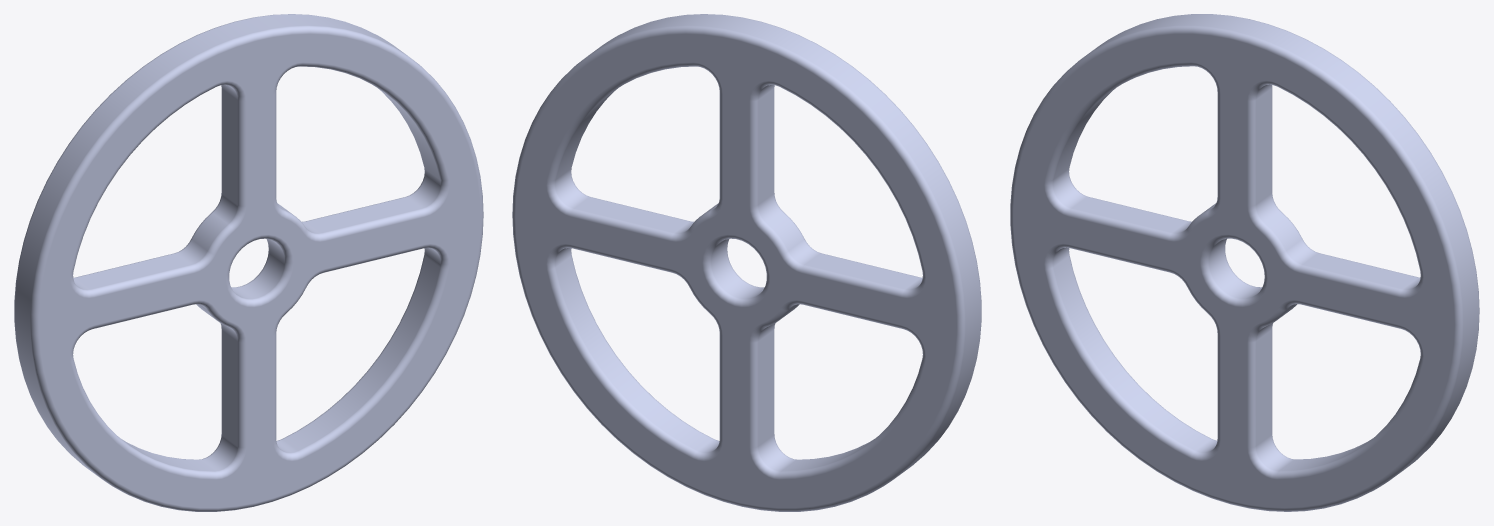
The model's file is Practice5_1.glb.
The picture shows the model from 3 angles, left to right: view 1: azimuth 30°, elevation 25°; view 2: azimuth 150°, elevation 25°; view 3: azimuth 330°, elevation 25°; orthographic projection.
Visible parts, largest first — view 1: Practice5; view 2: Practice5; view 3: Practice5.
Boxes of the visible parts, x1=… form: Practice5: x1=14, y1=14, x2=483, y2=511; Practice5: x1=512, y1=14, x2=981, y2=511; Practice5: x1=1010, y1=14, x2=1479, y2=511.
Bounding box in the file's own units: 0.24 × 0.2399 × 0.02.
